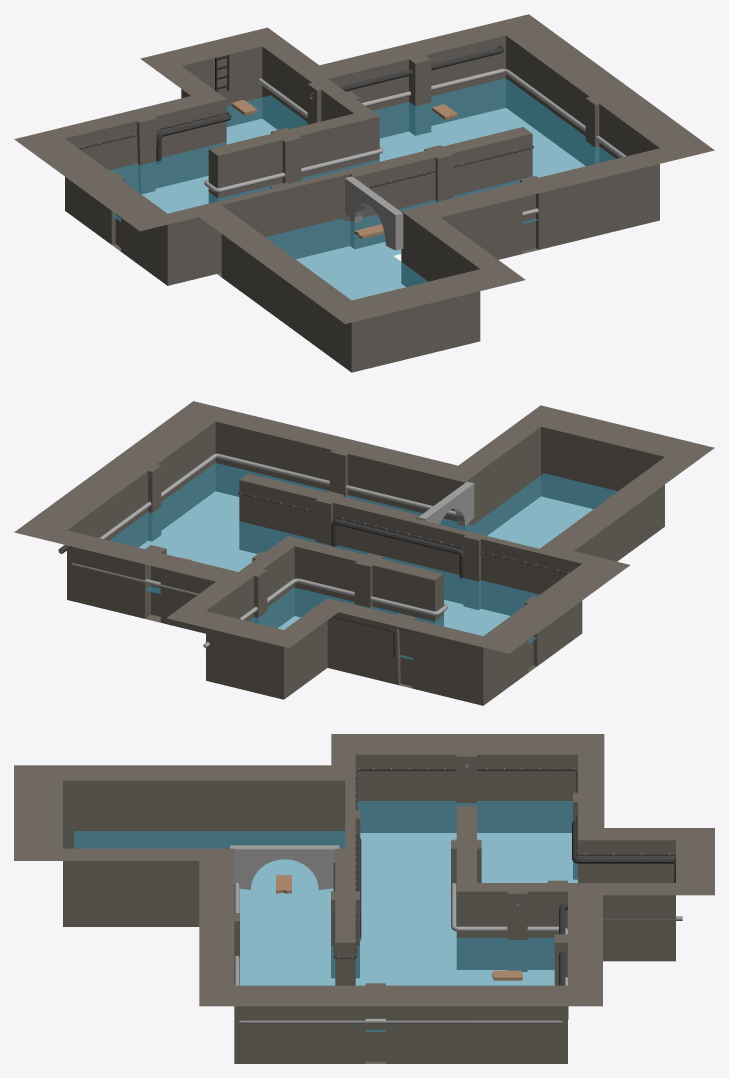
File: Esgoto_Cenario.fbx
3 renders of one model, top to bottom at view 1: azimuth 30°, elevation 25°; view 2: azimuth 150°, elevation 25°; view 3: azimuth 270°, elevation 25°, orthographic. The views are drawn at different scales.
Visible parts, largest first — view 1: pPlane1, polySurface55, pPlane2, pCylinder24, pPlane4, pCylinder39, polySurface133, pCylinder28; view 2: pPlane1, polySurface55, pPlane2, pCylinder24, pPlane4, pCylinder36, polySurface133; view 3: pPlane1, polySurface55, pPlane2, pPlane4, pCylinder24, polySurface133, pCylinder28.
Part boxes in pixels (x1,y1,x2,y2): pPlane1: (14, 14, 714, 372); polySurface55: (109, 78, 615, 300); pPlane2: (345, 127, 532, 248); pCylinder24: (204, 68, 626, 216); pPlane4: (345, 176, 403, 250); pCylinder39: (340, 45, 503, 91); polySurface133: (79, 111, 533, 226); pCylinder28: (156, 112, 231, 163); pPlane1: (14, 401, 714, 705); polySurface55: (109, 463, 617, 659); pPlane2: (239, 473, 419, 565); pCylinder24: (71, 453, 456, 648); pPlane4: (418, 481, 474, 526); pCylinder36: (331, 519, 463, 580); polySurface133: (238, 491, 569, 648); pPlane1: (14, 734, 714, 1063); polySurface55: (74, 801, 577, 1031); pPlane2: (331, 848, 359, 985); pPlane4: (230, 845, 339, 889); pCylinder24: (234, 839, 682, 1023); polySurface133: (333, 768, 675, 958); pCylinder28: (572, 821, 675, 863).
Size of the model in its own units: 6364 by 855 by 6930.
